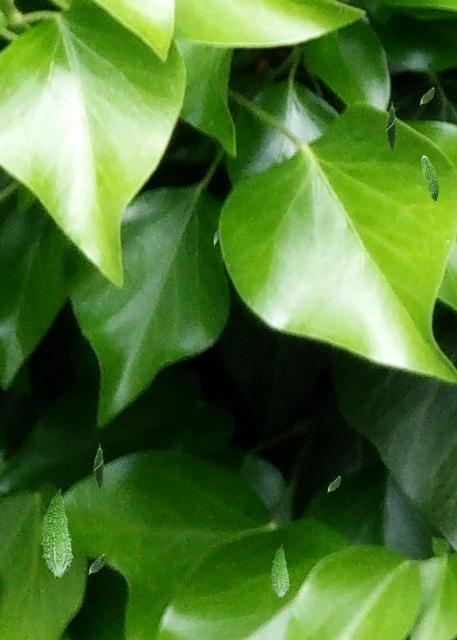ampalaya: (40, 488, 73, 580), (270, 543, 290, 599), (421, 155, 440, 203), (384, 101, 398, 153), (92, 443, 105, 492), (88, 553, 106, 575), (419, 87, 435, 105), (327, 475, 341, 493), (213, 229, 219, 246)
